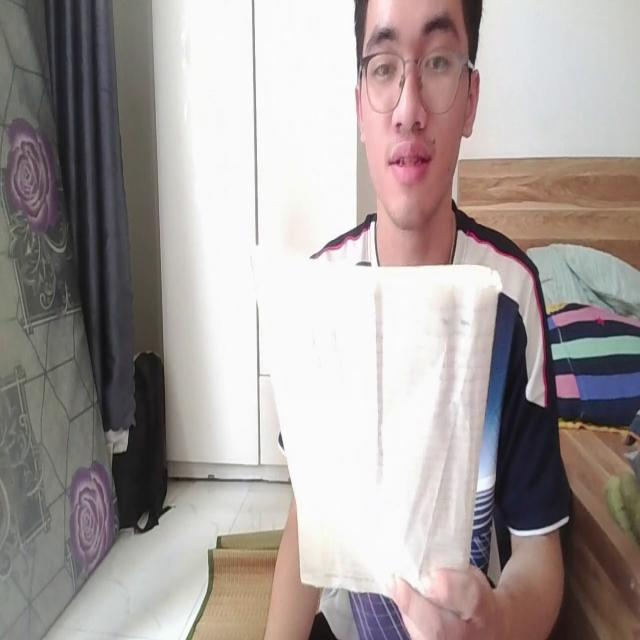book: (250, 237, 501, 608)
student: (267, 2, 570, 640)
